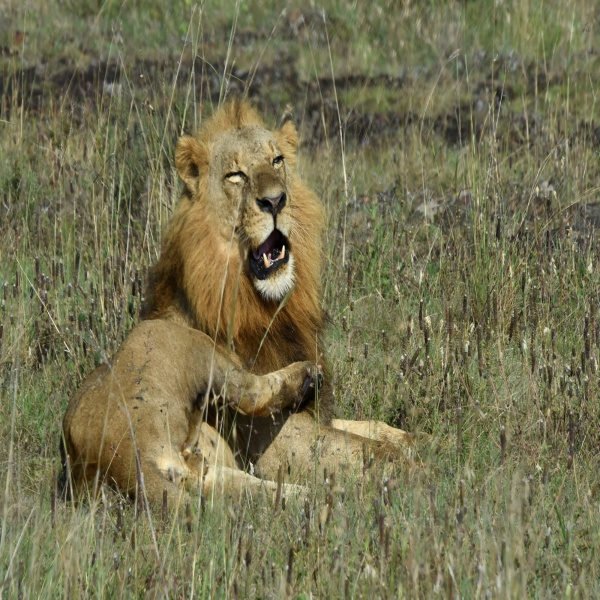Lion: (57, 97, 441, 526)
